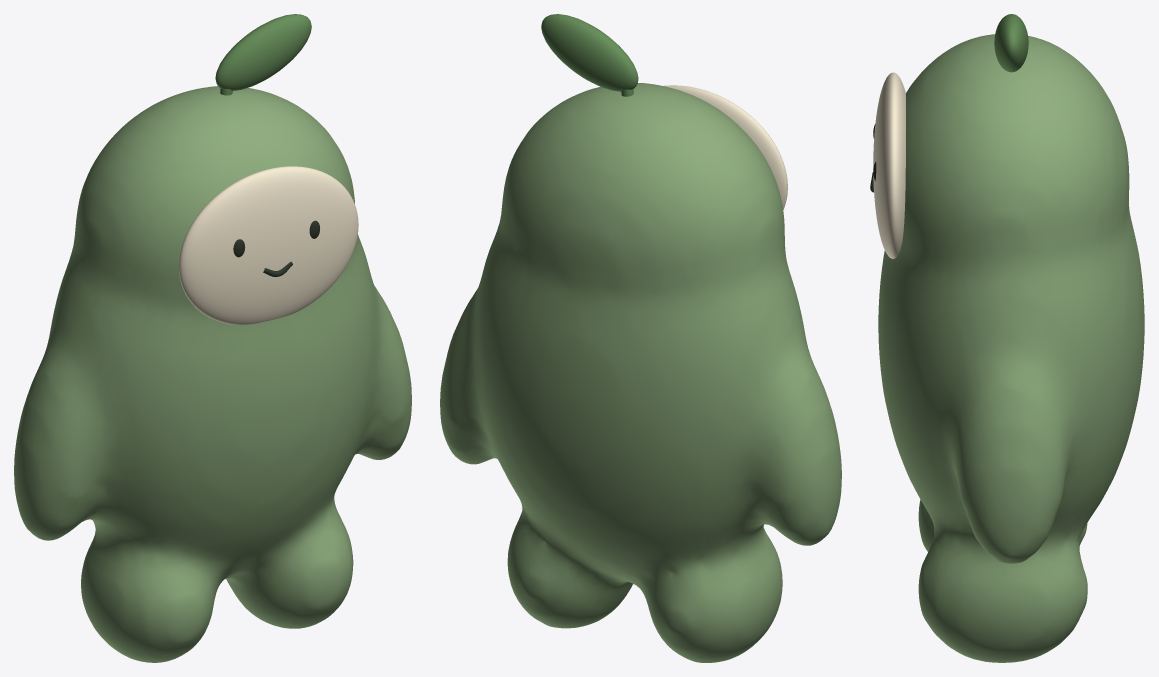
Rendered from moss-soft-v1.glb.
3 views of the same model, side by side, from view 1: azimuth 30°, elevation 25°; view 2: azimuth 150°, elevation 25°; view 3: azimuth 270°, elevation 25° (orthographic). The views are drawn at different scales.
Parts seen in each view (by area): view 1: Moss continuous body, Linen face panel, Single leaf; view 2: Moss continuous body, Single leaf, Linen face panel; view 3: Moss continuous body, Linen face panel, Single leaf.
Boxes of the visible parts, bbox=[...] form: Moss continuous body: bbox=[14, 86, 411, 662]; Linen face panel: bbox=[179, 166, 358, 324]; Single leaf: bbox=[215, 14, 311, 90]; Moss continuous body: bbox=[440, 83, 841, 662]; Single leaf: bbox=[541, 14, 638, 91]; Linen face panel: bbox=[664, 85, 787, 209]; Moss continuous body: bbox=[878, 34, 1144, 662]; Linen face panel: bbox=[873, 72, 905, 258]; Single leaf: bbox=[994, 14, 1028, 72].
Bounding box in the file's own units: 1.28 × 1.92 × 0.752.
